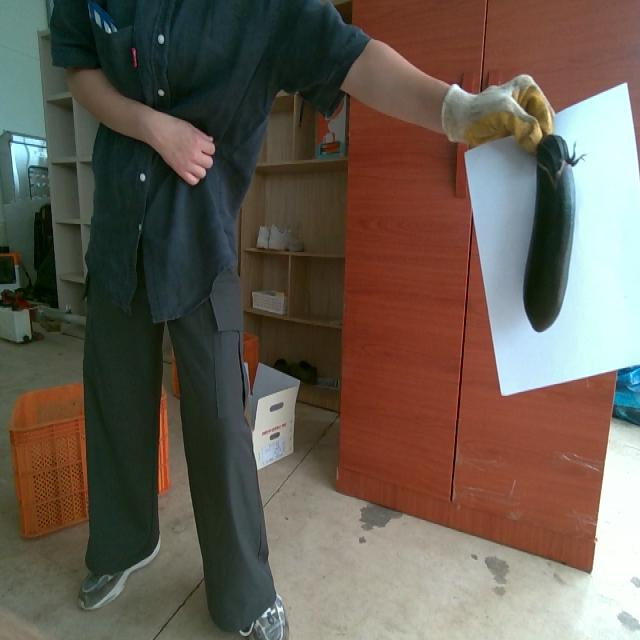Egg plant: (524, 135, 578, 331)
